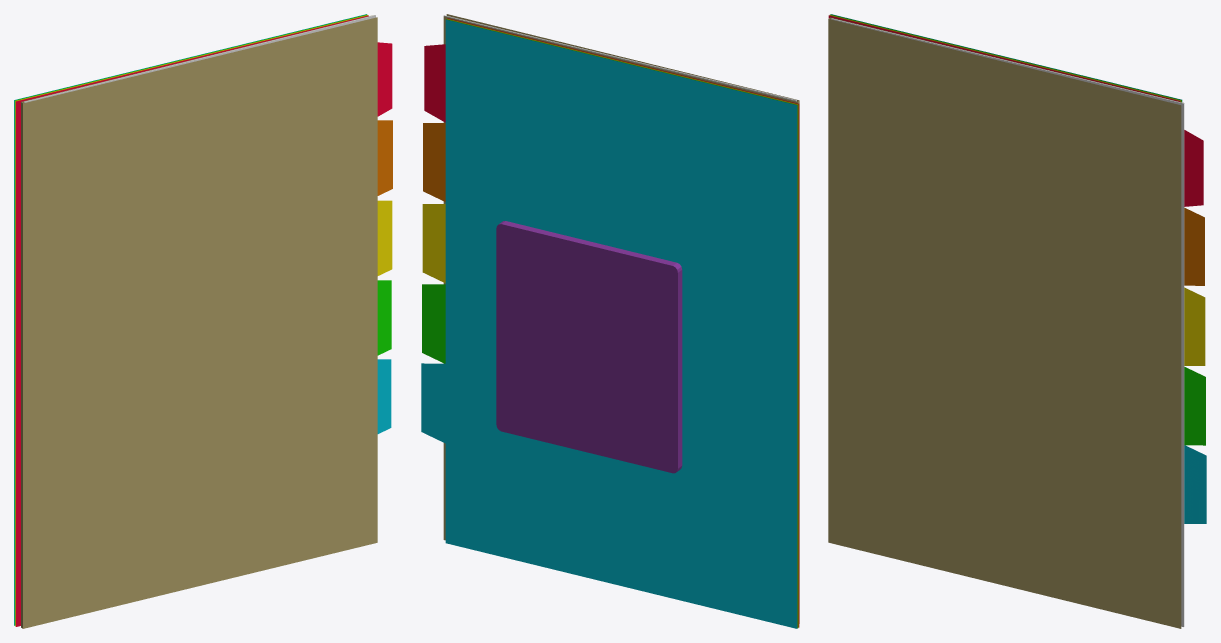
File: Carpeta.fbx
3 views of the same model, side by side, from view 1: azimuth 30°, elevation 25°; view 2: azimuth 150°, elevation 25°; view 3: azimuth 330°, elevation 25° (orthographic).
Parts seen in each view (by area): view 1: Archivo, Hoja, Hoja.003, Hoja.002, Hoja.001, Hoja.004, Hoja.005; view 2: Hoja.004, Ipad, Hoja.002, Hoja.003, Hoja.001, Hoja, Archivo, Hoja.005; view 3: Archivo, Hoja.005, Hoja.003, Hoja.004, Hoja, Hoja.002, Hoja.001.
Boxes of the visible parts, x1,y1,x2,y2 form: Archivo: (21,15,377,628); Hoja: (16,15,392,626); Hoja.003: (14,14,391,625); Hoja.002: (15,15,392,625); Hoja.001: (15,15,392,626); Hoja.004: (14,14,391,625); Hoja.005: (23,15,375,102); Hoja.004: (421,19,797,628); Ipad: (496,221,682,473); Hoja.002: (422,19,798,627); Hoja.003: (422,19,797,628); Hoja.001: (423,18,798,627); Hoja: (424,18,799,627); Archivo: (443,14,799,623); Hoja.005: (443,15,796,101); Archivo: (828,17,1183,628); Hoja.005: (831,18,1184,626); Hoja.003: (830,14,1205,445); Hoja.004: (831,14,1206,523); Hoja: (828,15,1203,206); Hoja.002: (830,15,1205,365); Hoja.001: (829,15,1204,285).
Size of the model in its own units: 150 by 200 by 27.4.
